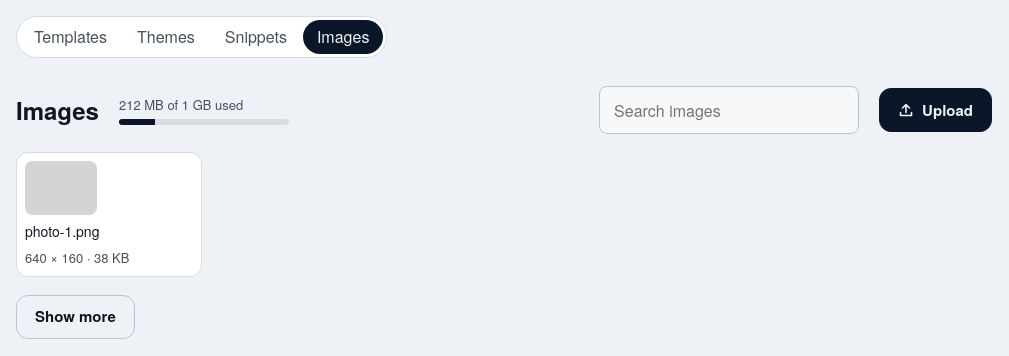
Test: the image library › pages with before when there is more
This screenshot has width=1009, height=356.
Click the button "Show more".
click(75, 316)  # box [16, 294, 135, 338]
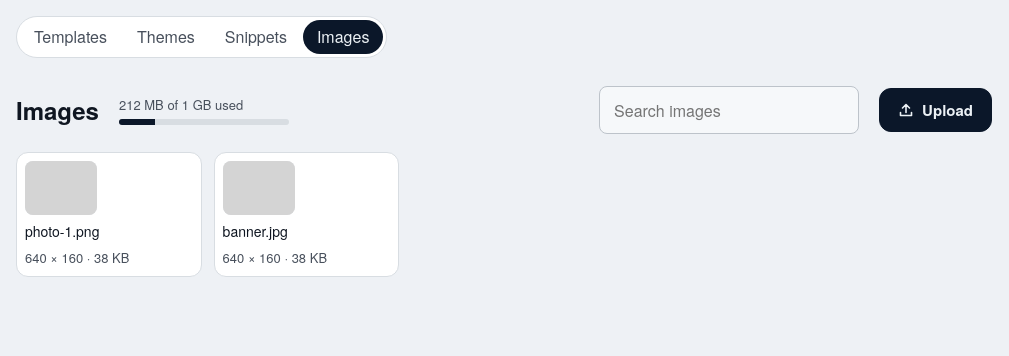
Now the button "banner.jpg 640 × 160 · 38 KB" is shown, box [214, 152, 399, 276]
Now the button "Show more" is gone
